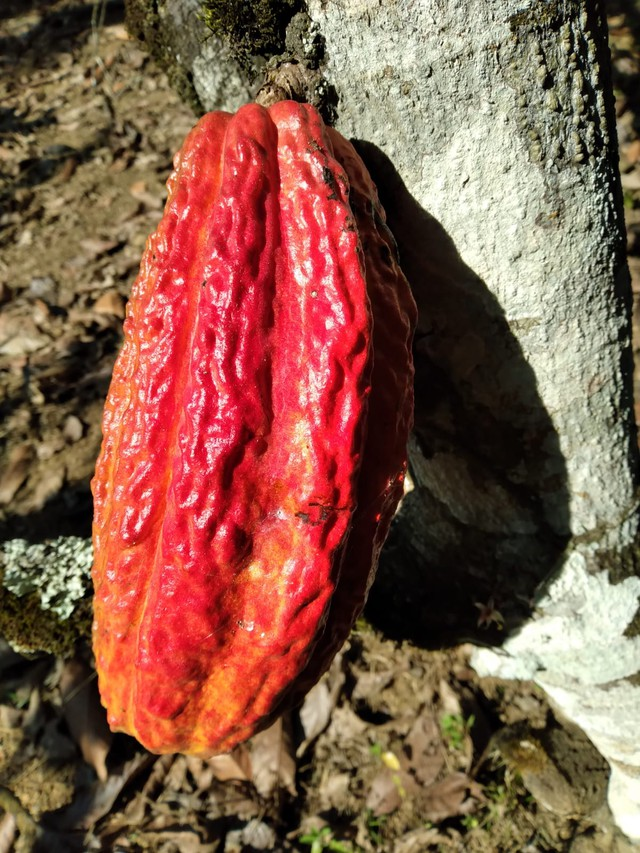Health: (87, 98, 427, 765)
